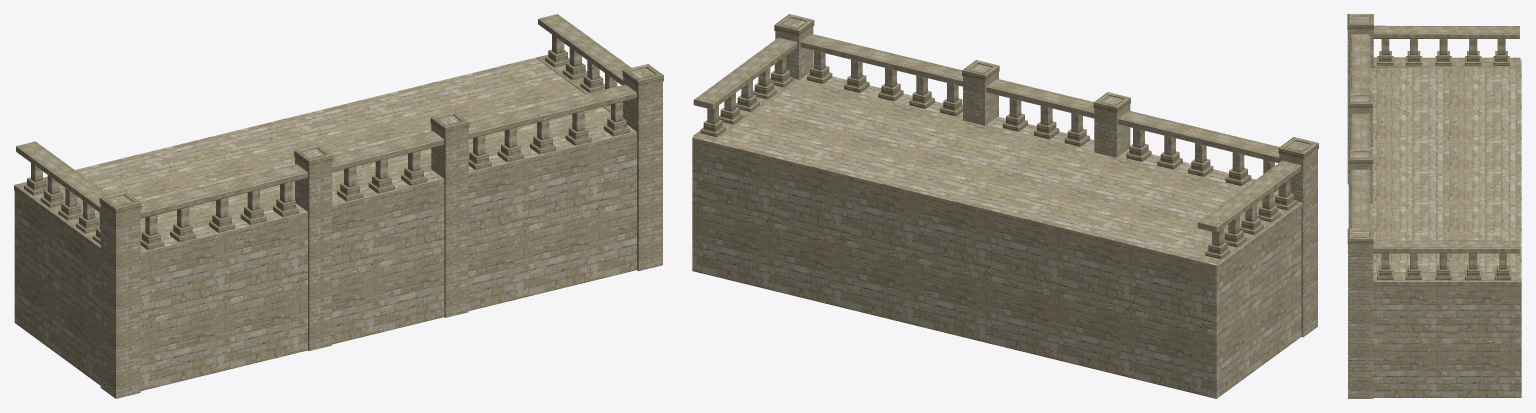
The model's file is TW2_5_FOUNTAIN_06-transformed.glb.
3 views of the same model, side by side, from view 1: azimuth 30°, elevation 25°; view 2: azimuth 150°, elevation 25°; view 3: azimuth 270°, elevation 25° (orthographic). The views are drawn at different scales.
Parts seen in each view (by area): view 1: default; view 2: default; view 3: default.
Boxes of the visible parts, box(x1,y1,x2,y2) form: default: box(14, 14, 663, 398); default: box(692, 14, 1318, 398); default: box(1347, 14, 1521, 398).
Bounding box in the file's own units: 7.75 × 2.58 × 2.53.
3 materials, 3 textured.
